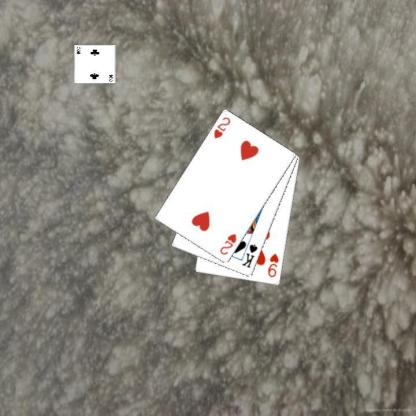2H: (218, 231, 238, 257), (212, 115, 232, 140)
9H: (265, 251, 280, 278)
KS: (240, 242, 259, 269)
